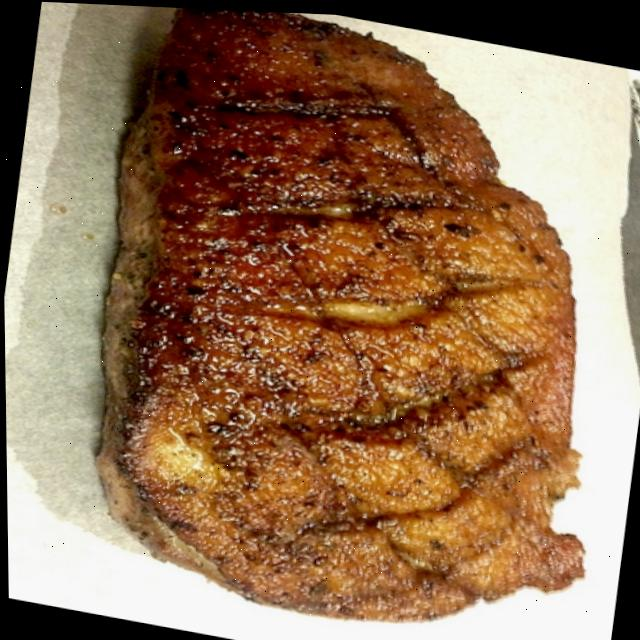烧串烤肉: (7, 0, 640, 640)
